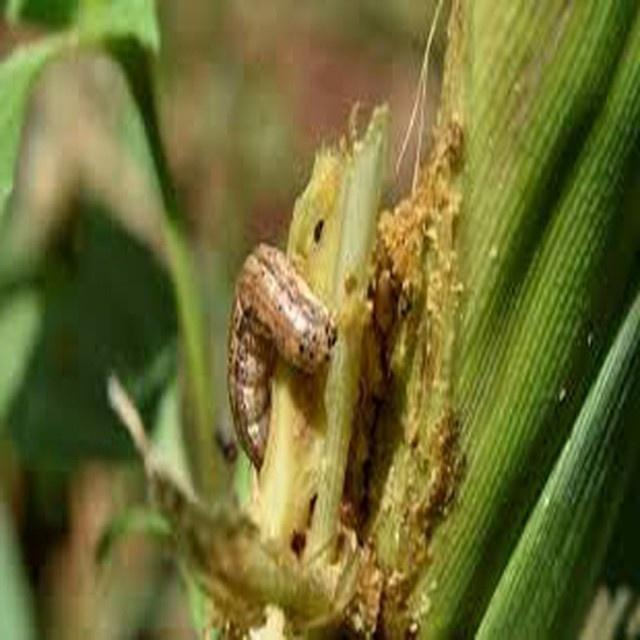Plaga: (228, 248, 340, 468)
